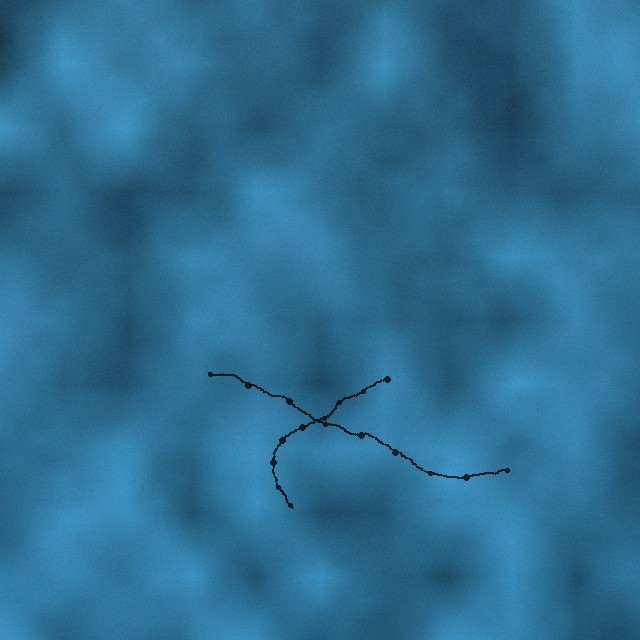crack: (204, 369, 511, 482), (268, 375, 391, 511)
